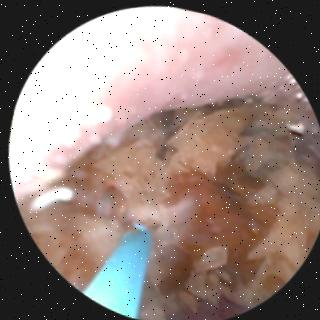fiber: (83, 228, 147, 315)
stone: (19, 96, 320, 318)
